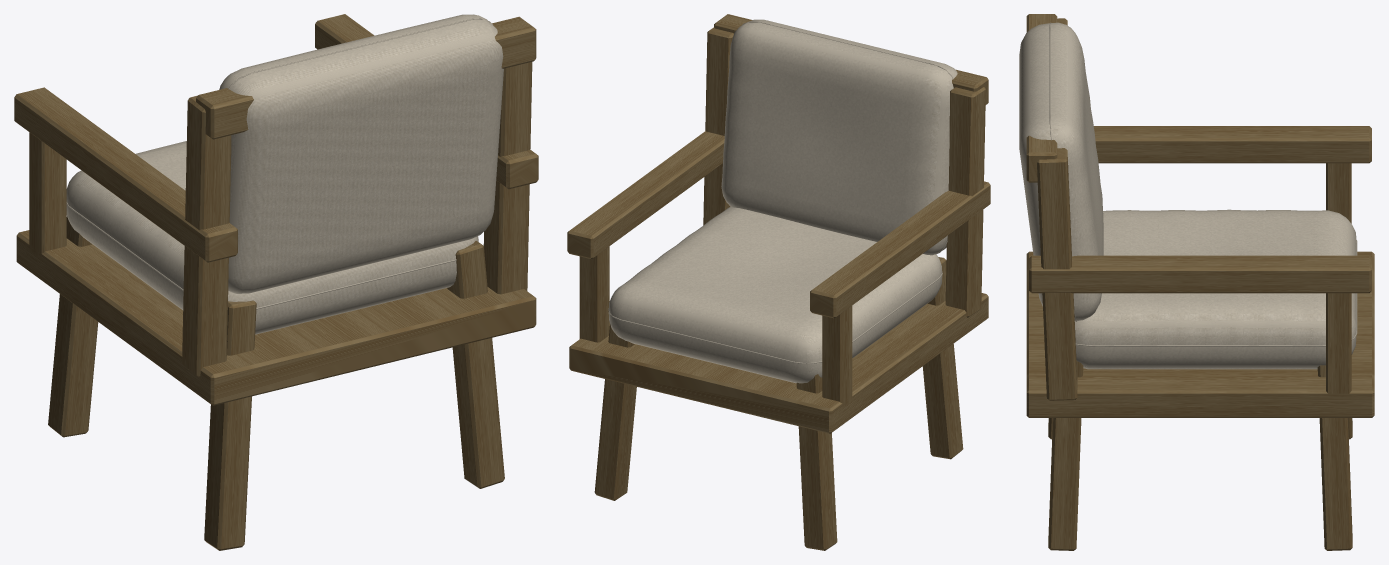
3 renders of one model, left to right at view 1: azimuth 30°, elevation 25°; view 2: azimuth 150°, elevation 25°; view 3: azimuth 270°, elevation 25°, orthographic. The views are drawn at different scales.
Parts seen in each view (by area): view 1: Mesh_warm, Mesh_linen; view 2: Mesh_linen, Mesh_warm; view 3: Mesh_warm, Mesh_linen.
Part boxes in pixels (x1,y1,x2,y2): Mesh_warm: (14,14,538,550); Mesh_linen: (66,14,503,334); Mesh_linen: (608,19,957,383); Mesh_warm: (567,14,990,550); Mesh_warm: (1026,14,1374,550); Mesh_linen: (1019,22,1357,369).
Size of the model in its own units: 0.665 by 0.9027 by 0.6938.
2 materials, 2 textured.
